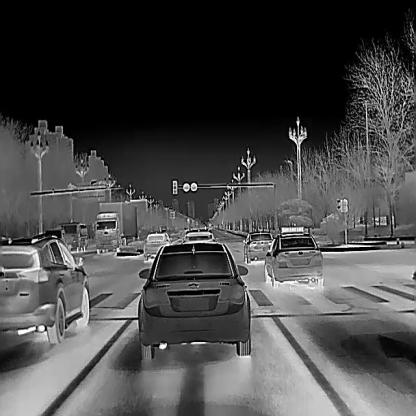car: (136, 240, 251, 359), (0, 233, 89, 343), (264, 225, 323, 286), (242, 231, 276, 262), (143, 231, 170, 260), (180, 226, 218, 244)
truck: (94, 201, 136, 252), (60, 221, 87, 252)
